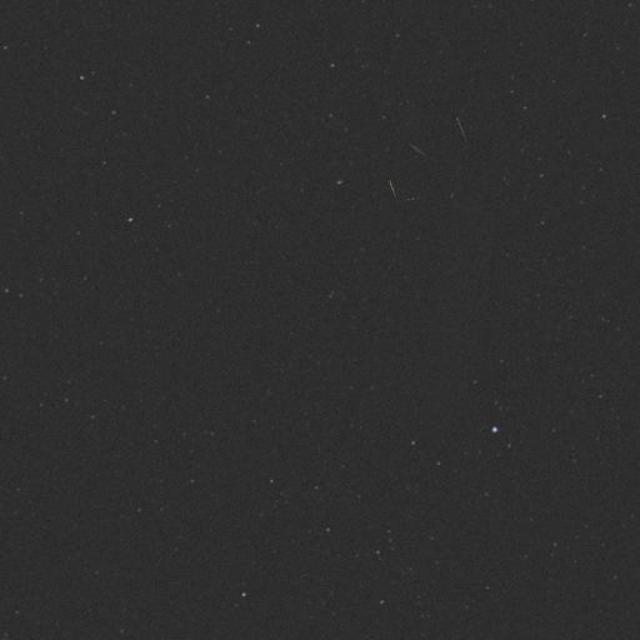earth_observation_sat_1: (342, 89, 512, 254)
